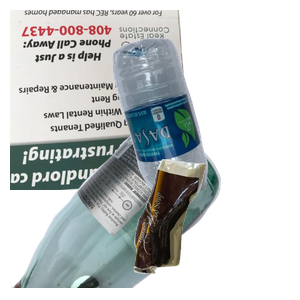glass: (10, 120, 224, 300)
paper: (10, 10, 201, 190)
plastic: (110, 36, 300, 216)
trash: (131, 157, 300, 300)
